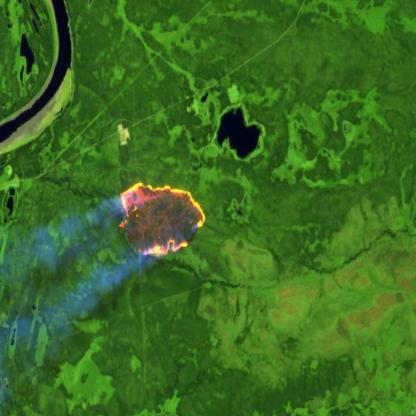fire: (118, 182, 207, 260)
